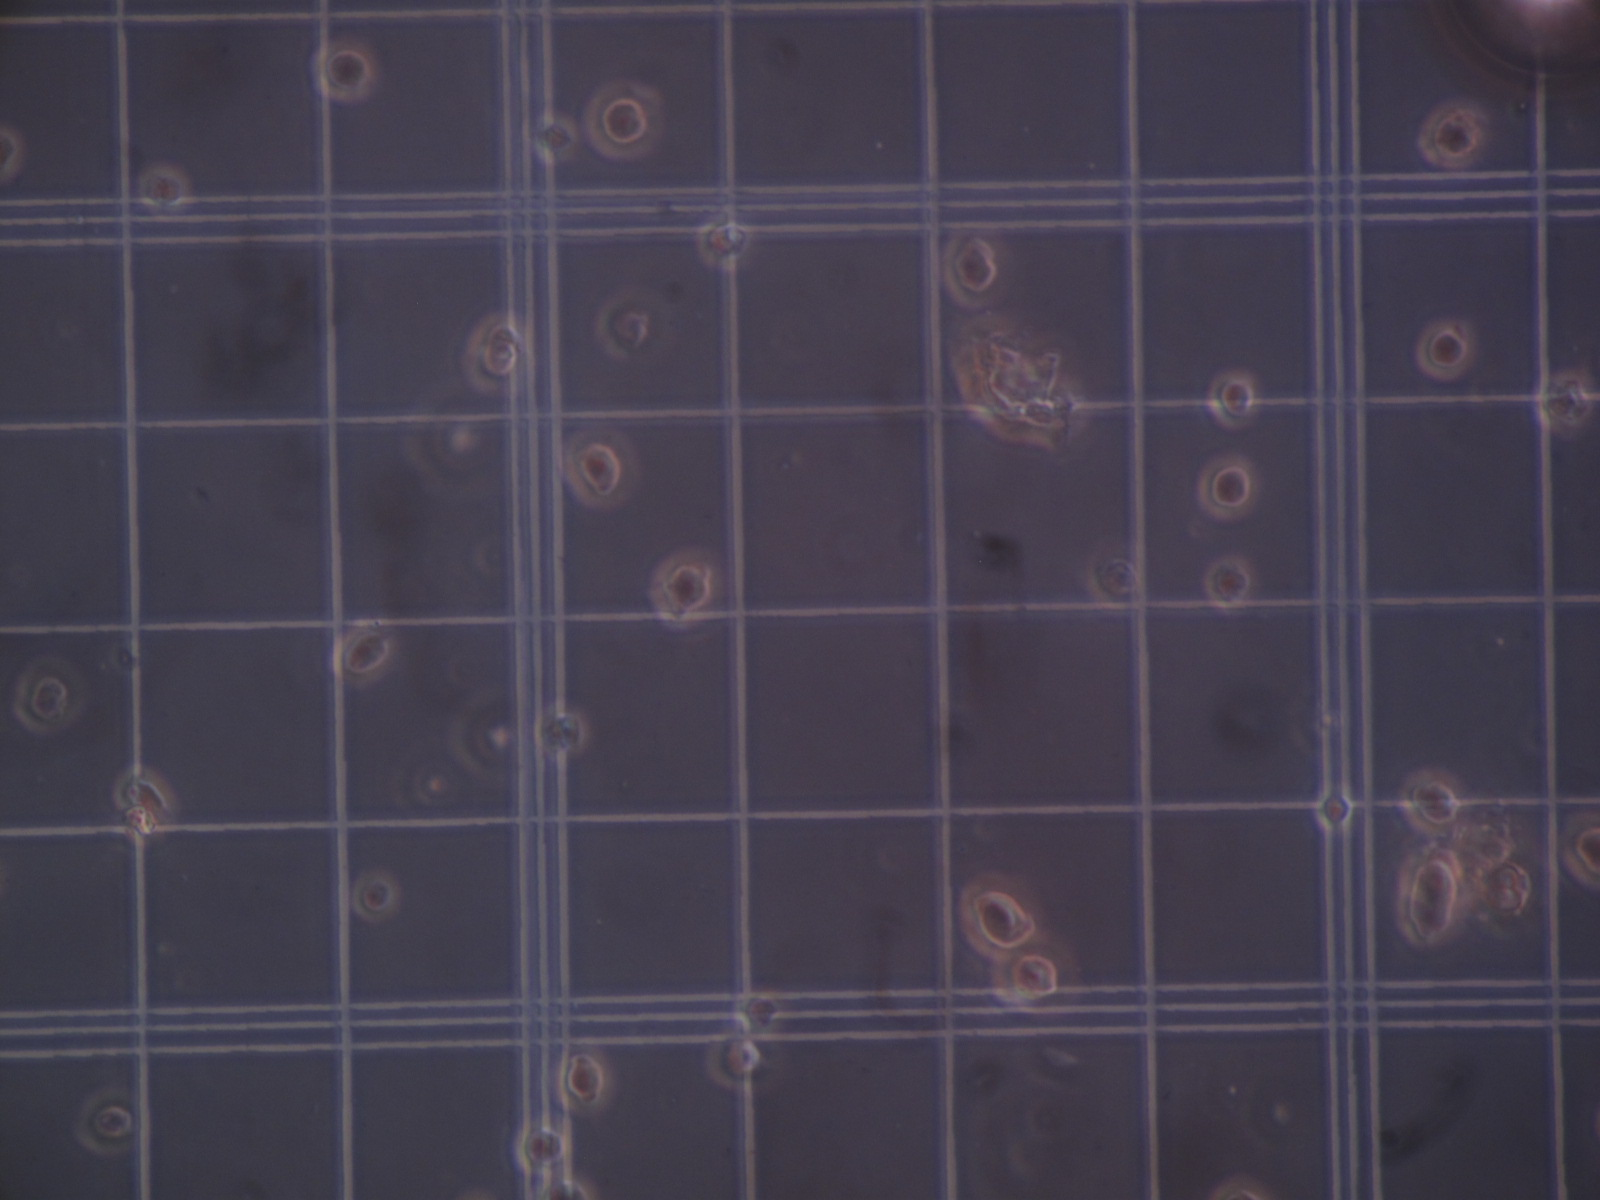hemo: (957, 872, 1043, 961), (1395, 848, 1466, 948), (562, 425, 637, 511), (991, 943, 1078, 1016), (585, 79, 661, 160), (648, 547, 724, 625), (462, 313, 534, 395), (13, 655, 86, 734), (941, 228, 1007, 309), (1417, 100, 1487, 169), (73, 1087, 140, 1156), (1398, 768, 1464, 834), (311, 38, 378, 102), (1197, 454, 1259, 521), (1083, 545, 1141, 613), (593, 292, 651, 361), (557, 1046, 614, 1116), (333, 625, 396, 687), (1533, 372, 1592, 437), (706, 1032, 769, 1092), (1415, 320, 1475, 381), (1206, 369, 1259, 430), (1558, 813, 1600, 890), (534, 703, 590, 760), (1203, 555, 1256, 613), (695, 219, 753, 270), (113, 765, 174, 813), (514, 1123, 569, 1175), (1483, 862, 1532, 919), (351, 868, 401, 921), (136, 163, 190, 211), (530, 113, 580, 163), (734, 991, 782, 1039), (533, 1174, 598, 1200), (120, 805, 163, 845), (1314, 789, 1353, 828), (1208, 1176, 1270, 1200), (1, 124, 23, 187)
